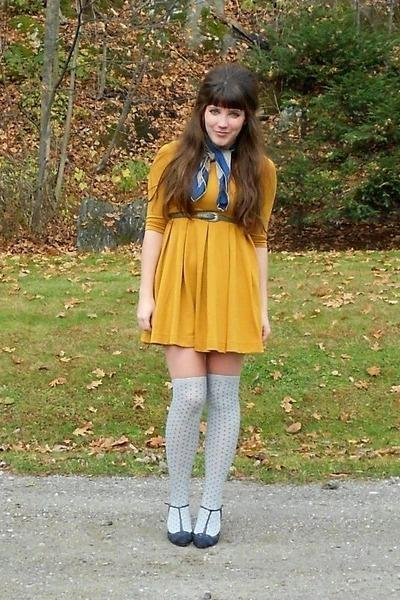dress: (134, 150, 283, 355)
shoe: (167, 508, 220, 548)
